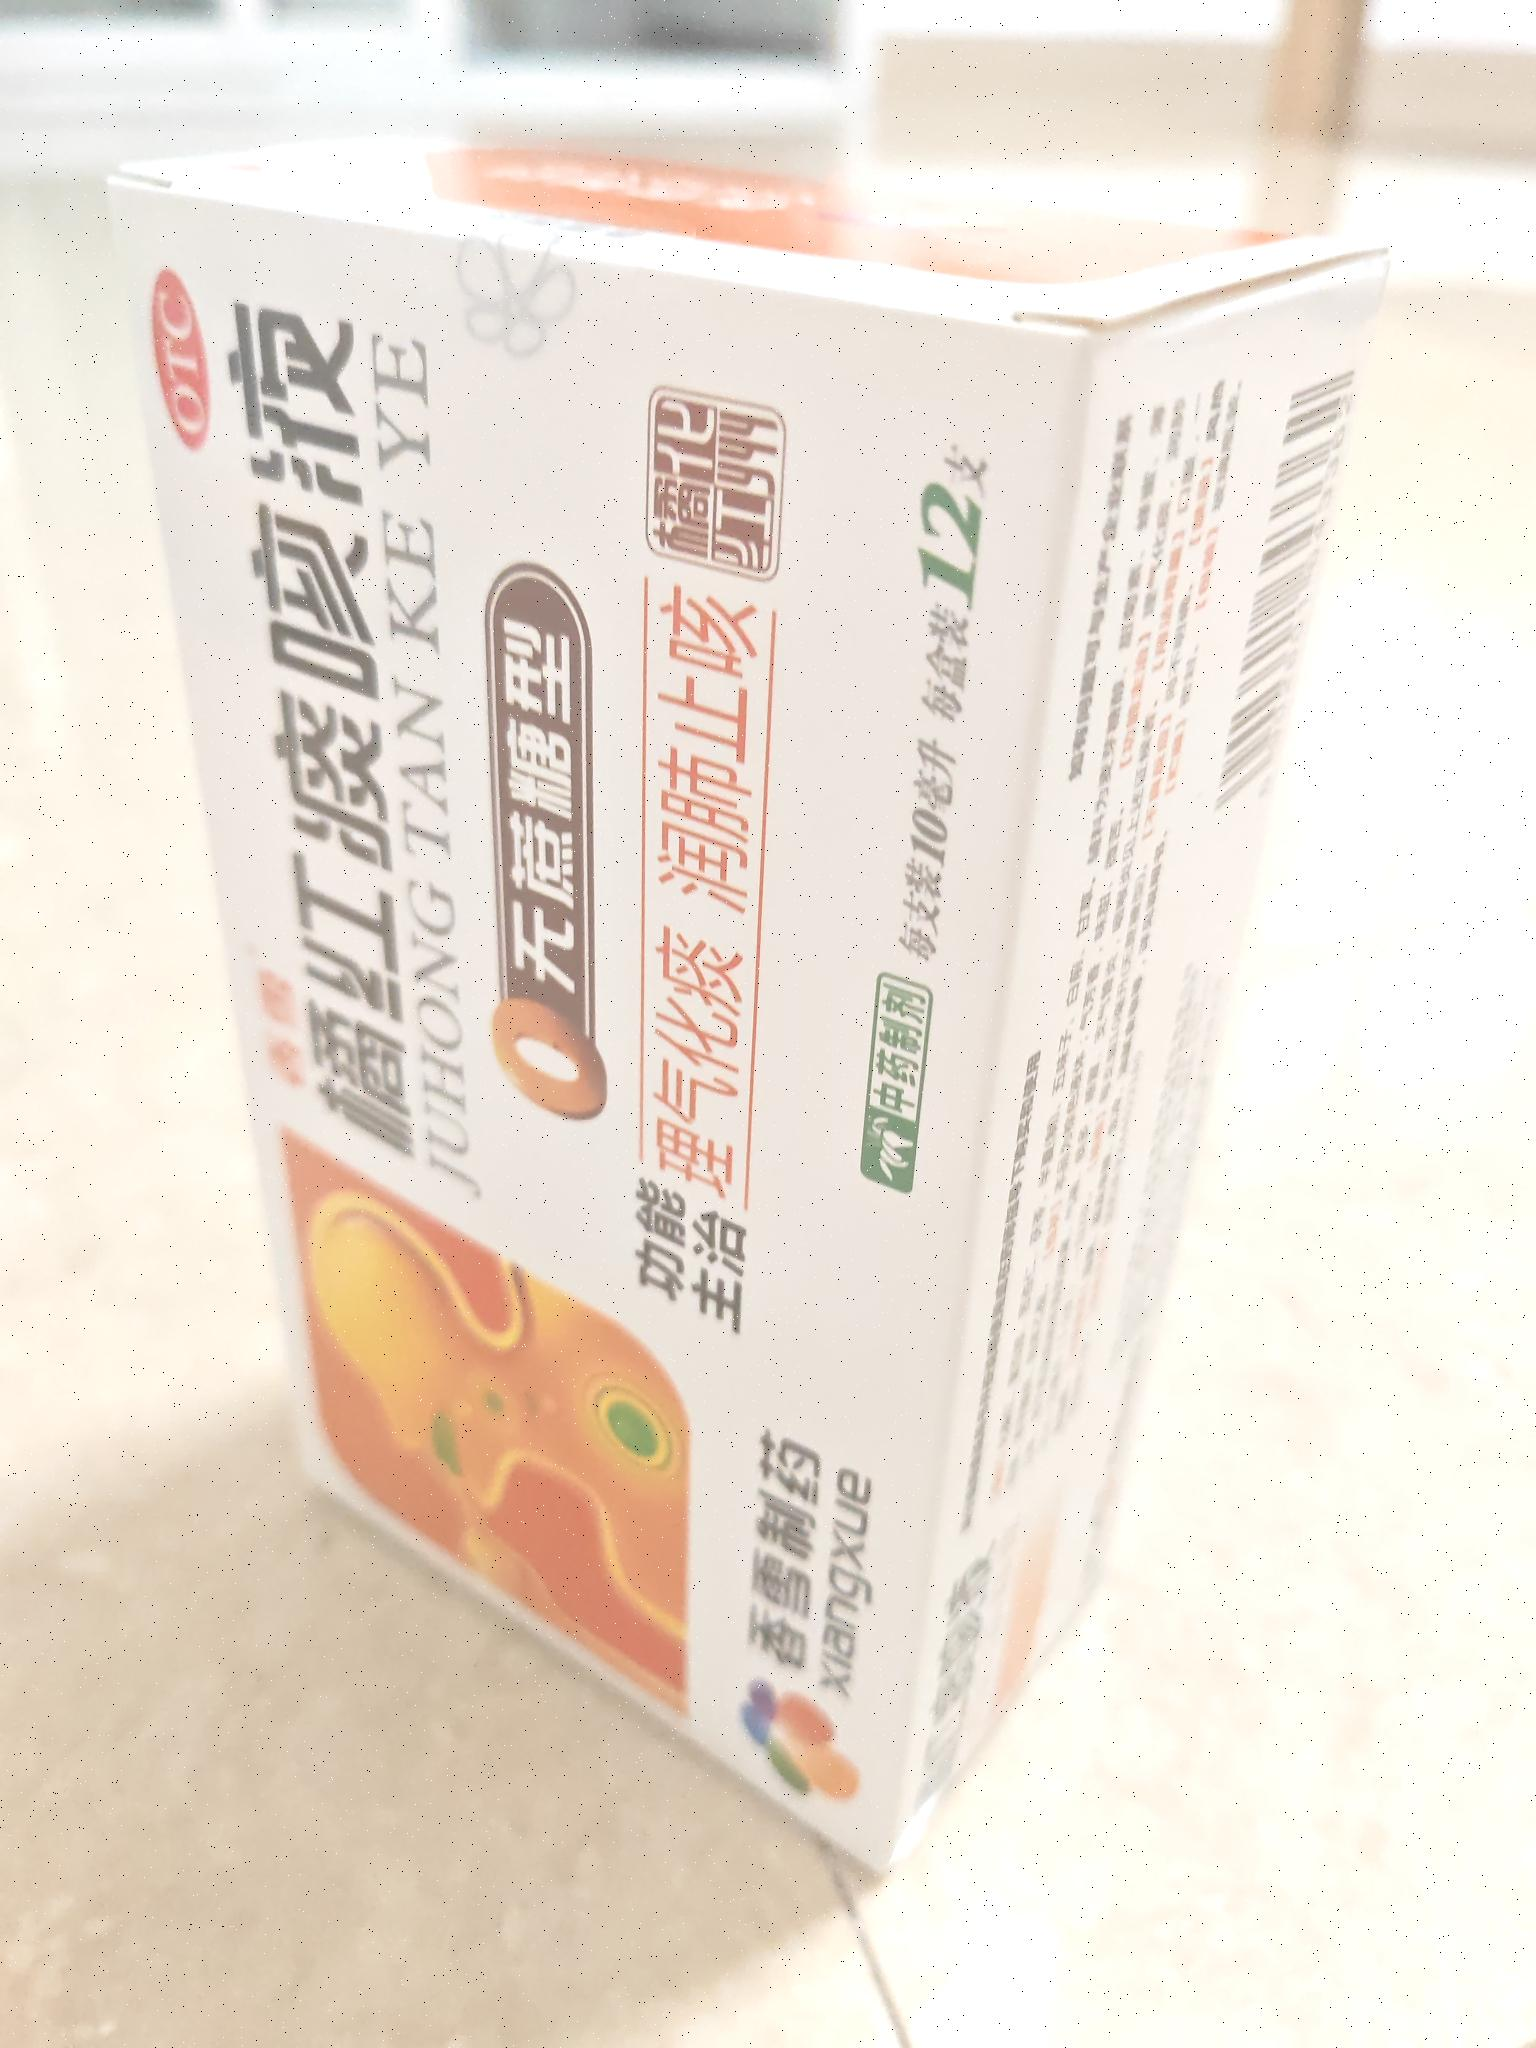Medicine1: (68, 105, 1428, 1895)
